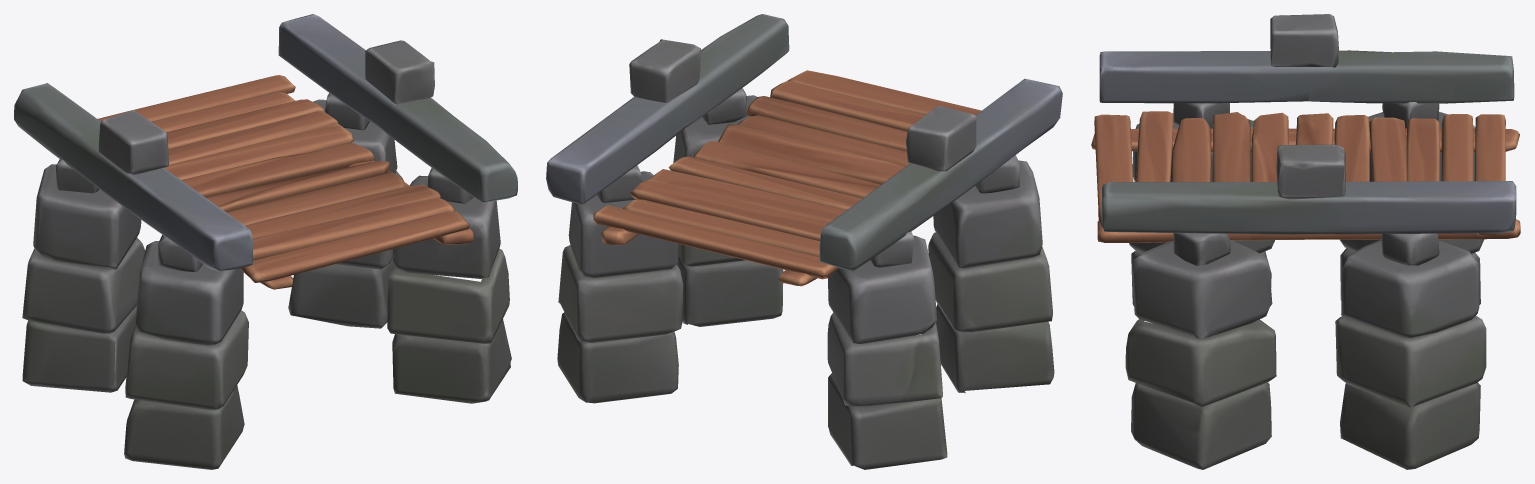
The model's file is SM_Bridge_Middle_03.glb.
3 views of the same model, side by side, from view 1: azimuth 30°, elevation 25°; view 2: azimuth 150°, elevation 25°; view 3: azimuth 270°, elevation 25° (orthographic).
Visible parts, largest first — view 1: SM_Bridge_Middle_03; view 2: SM_Bridge_Middle_03; view 3: SM_Bridge_Middle_03.
Boxes of the visible parts, x1,y1,x2,y2 form: SM_Bridge_Middle_03: (14,14,517,469); SM_Bridge_Middle_03: (546,14,1062,469); SM_Bridge_Middle_03: (1091,14,1520,469).
Size of the model in its own units: 4.33 by 3.08 by 4.11.
1 material, 1 textured.
